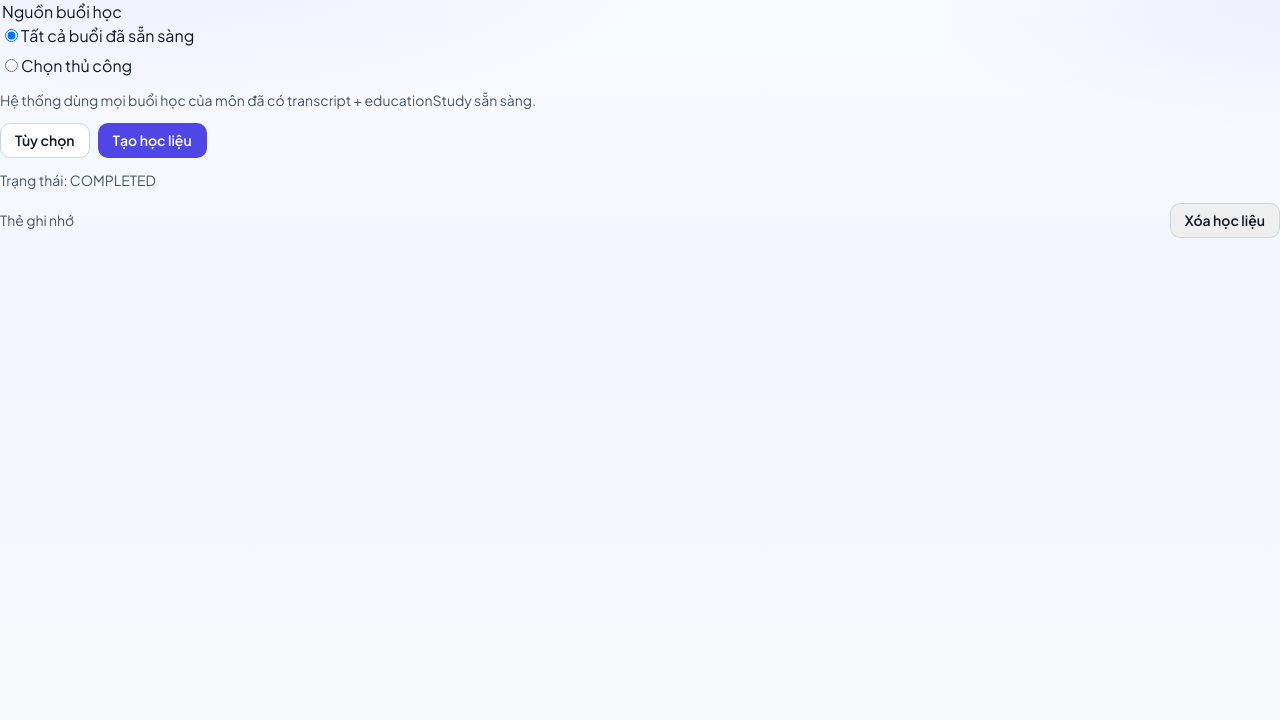
Test: StudyArtifactTabPanel delete flow › opens confirm dialog when delete button is clicked
What coordinates should you click on to do the following:
click the button with test id "artifact-delete-btn"
I would click on:
 (1225, 220)
Its box is [1170, 203, 1279, 238].
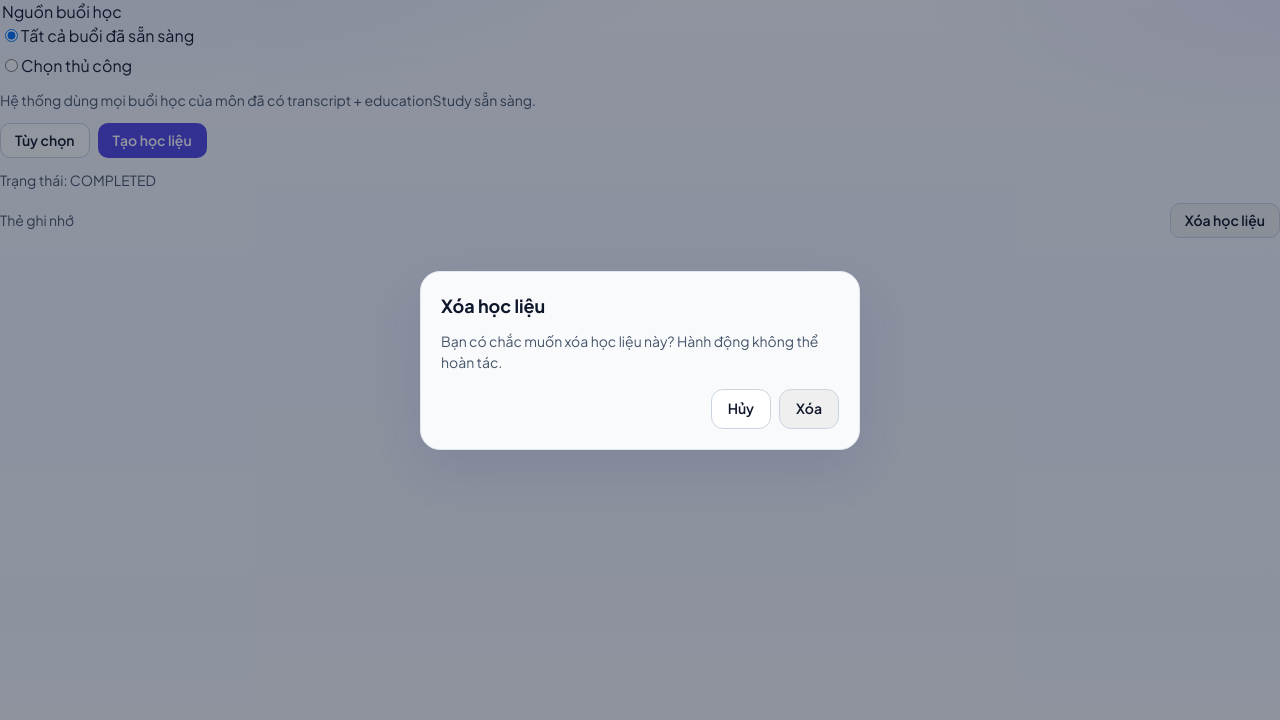
expect the dialog with test id "artifact-delete-dialog" is shown: met, box [420, 270, 860, 450]
